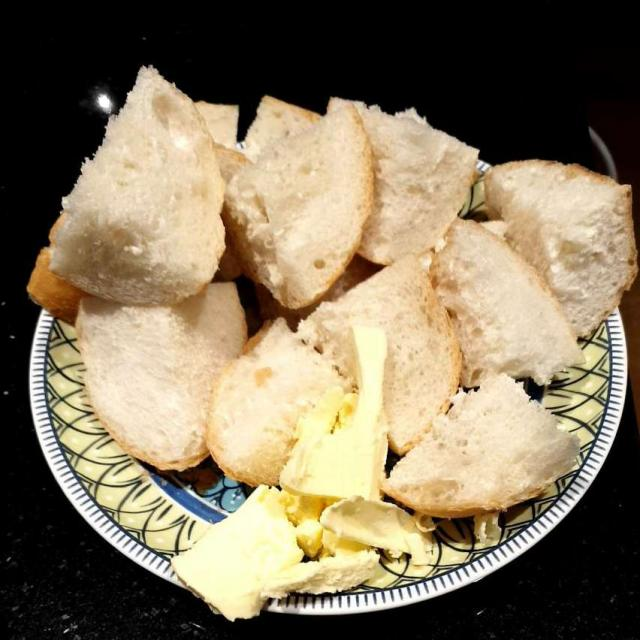bread-white: (16, 80, 613, 522)
butter: (162, 310, 434, 619)
